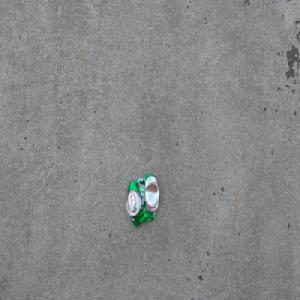SodaCan: (125, 172, 160, 228)
